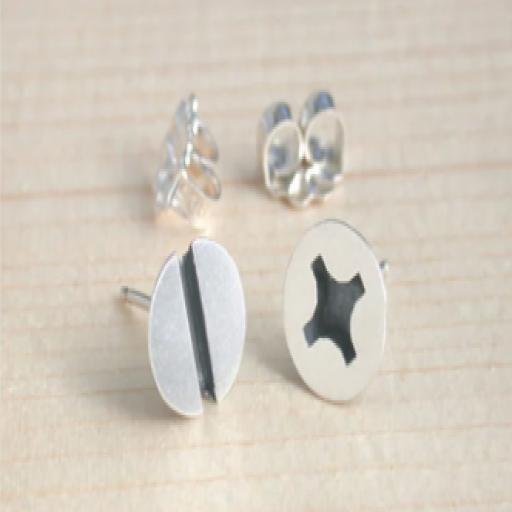Phillips: (284, 217, 386, 407)
Slotted: (147, 239, 249, 422)
